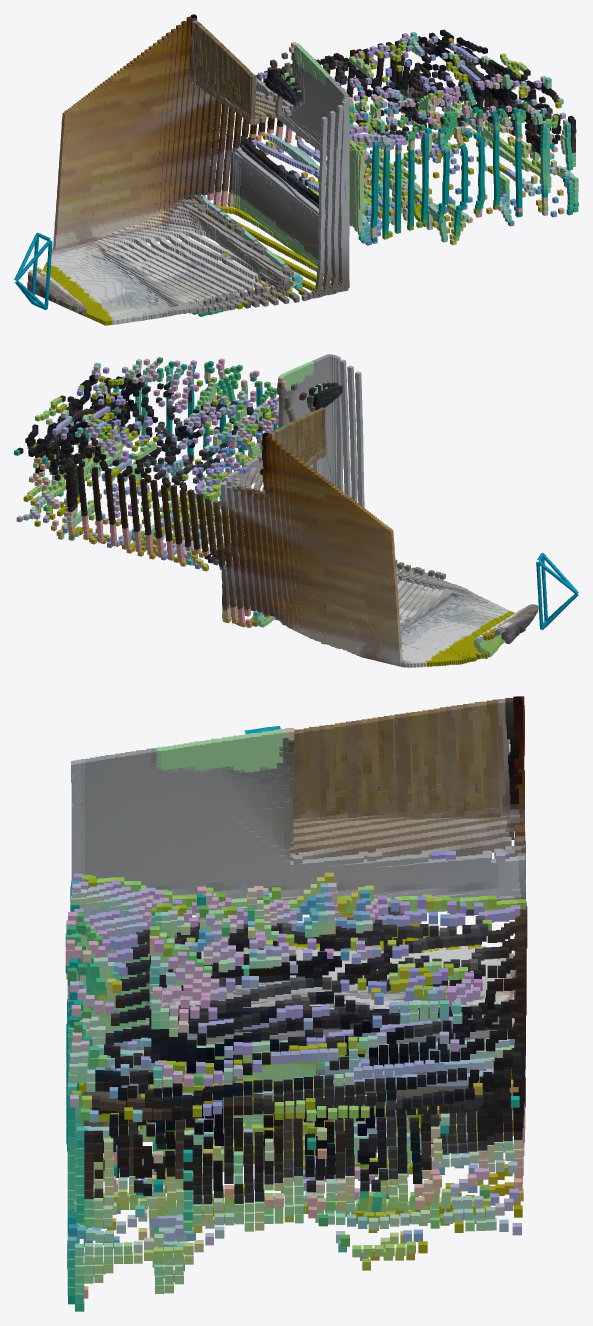
The picture shows the model from 3 angles, top to bottom: view 1: azimuth 30°, elevation 25°; view 2: azimuth 150°, elevation 25°; view 3: azimuth 270°, elevation 25°; orthographic projection. The views are drawn at different scales.
Size of the model in its own units: 6.48 by 2.59 by 2.52.
